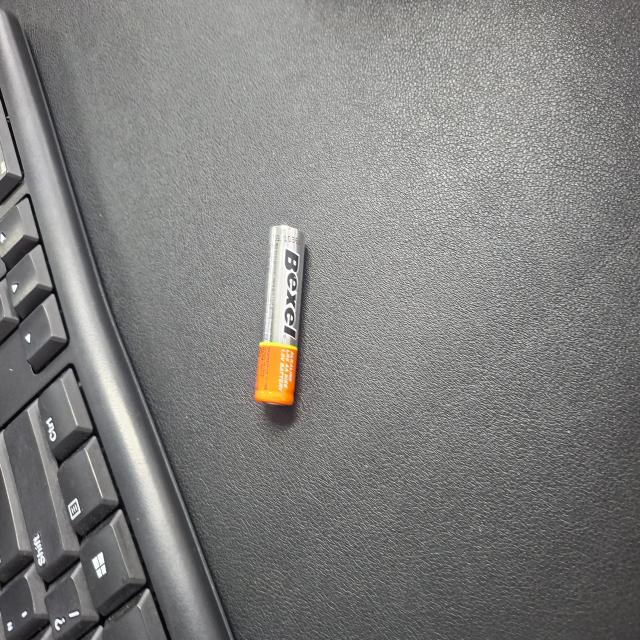AA: (176, 340, 311, 406)
